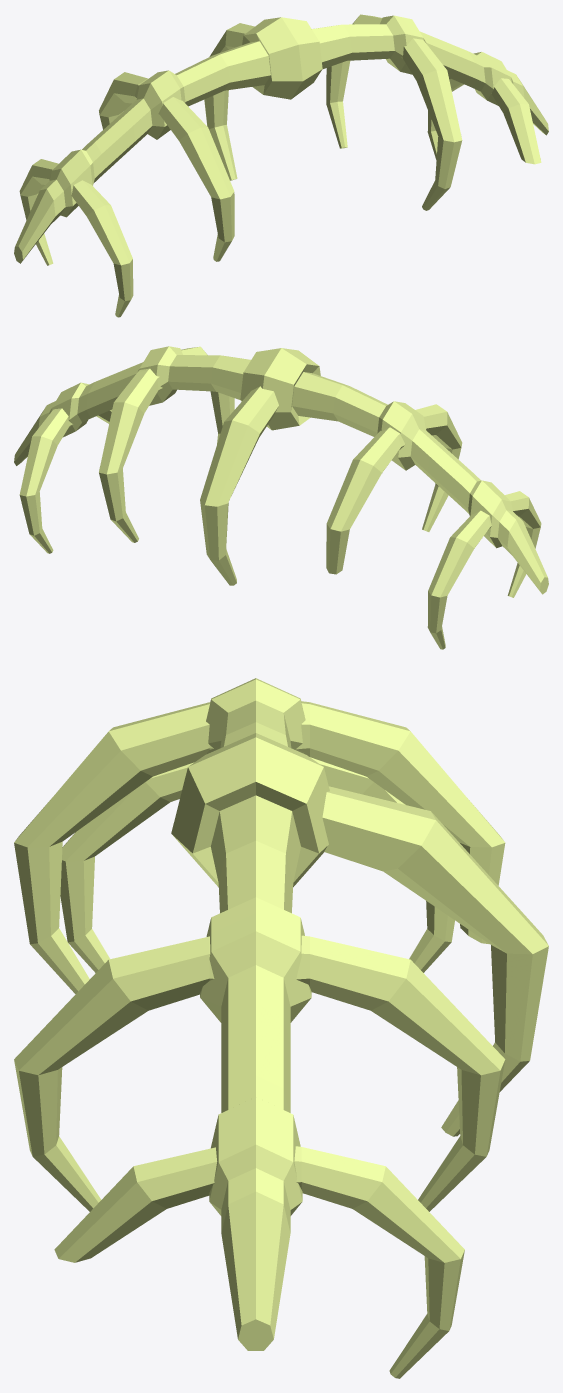
The model's file is rib2.fbx.
The picture shows the model from 3 angles, top to bottom: view 1: azimuth 30°, elevation 25°; view 2: azimuth 150°, elevation 25°; view 3: azimuth 270°, elevation 25°; orthographic projection. The views are drawn at different scales.
Visible parts, largest first — view 1: Ribcage2; view 2: Ribcage2; view 3: Ribcage2.
Part boxes in pixels (left/top/right/bottom): Ribcage2: left=14, top=14, right=548, bottom=317; Ribcage2: left=14, top=346, right=548, bottom=649; Ribcage2: left=14, top=678, right=548, bottom=1378.
Bounding box in the file's own units: 3397 × 1400 × 1508.
